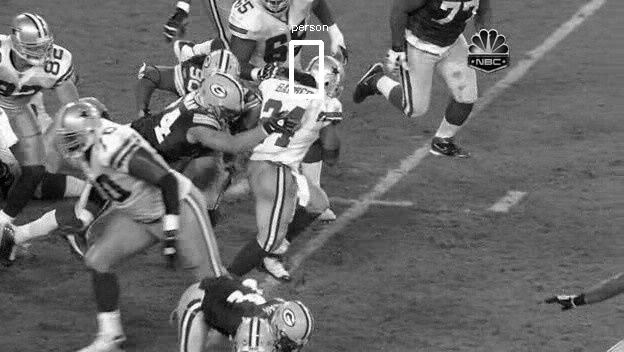person: (311, 54, 345, 98), (310, 54, 344, 98), (312, 54, 346, 98), (311, 53, 345, 97), (311, 55, 345, 99)
target_negative: (134, 206, 551, 317), (28, 193, 224, 284), (487, 162, 547, 233), (371, 304, 576, 313), (289, 8, 310, 52), (615, 45, 616, 150)
